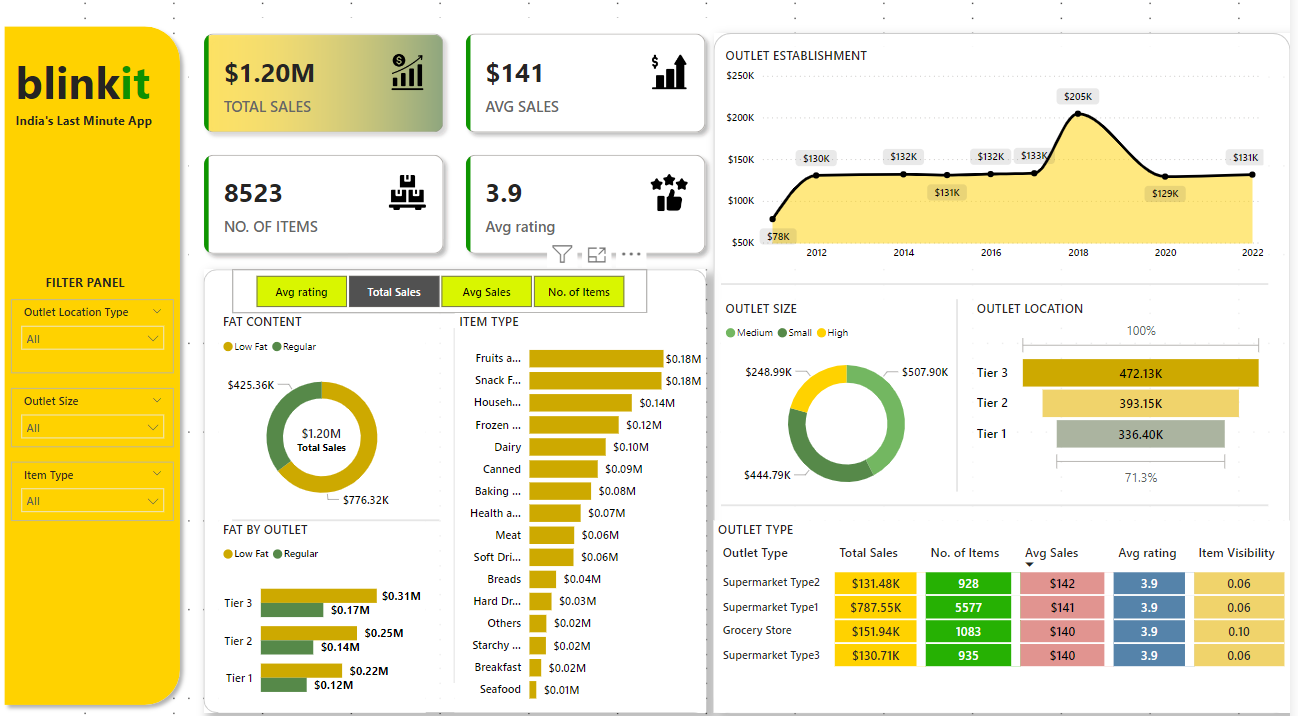

What the dashboard file says about the page in this screenshot:
{"tool":"powerbi","page":{"name":"Page 1","canvas":[1400,800],"ordinal":0},"visuals":[{"type":"shape","box":[0,32,208,752],"z":0},{"type":"textbox","box":[16,64,192,80],"z":1000},{"type":"textbox","box":[16,128,192,32],"z":2000},{"type":"cardVisual","fields":{"Data":["BlinkIT Grocery Data.Total Sales","BlinkIT Grocery Data.Avg Sales","BlinkIT Grocery Data.No. of rows","BlinkIT Grocery Data.Avg rating"]},"box":[208,32,576,272],"z":3000},{"type":"shape","box":[224,304,544,480],"z":4000},{"type":"donutChart","title":"FAT CONTENT","fields":{"Y":["BlinkIT Grocery Data.Total Sales"],"Category":["BlinkIT Grocery Data.Item Fat Content"]},"box":[240,351,224,224],"z":5000},{"type":"slicer","fields":{"Values":["Matrix.Matrix"]},"box":[256,304,448,48],"z":6000},{"type":"cardVisual","fields":{"Data":["BlinkIT Grocery Data.Total Sales"]},"box":[288,448,128,80],"z":7000},{"type":"clusteredBarChart","title":"FAT BY OUTLET","fields":{"Y":["BlinkIT Grocery Data.Total Sales"],"Category":["BlinkIT Grocery Data.Outlet Location Type"],"Series":["BlinkIT Grocery Data.Item Fat Content"]},"box":[240,576,224,208],"z":8000},{"type":"shape","box":[256,560,224,32],"z":9000},{"type":"shape","box":[480,368,32,384],"z":10000},{"type":"barChart","title":"ITEM TYPE","fields":{"Y":["BlinkIT Grocery Data.Total Sales"],"Category":["BlinkIT Grocery Data.Item Type"]},"box":[496,352,272,432],"z":11000},{"type":"shape","box":[776,48,624,736],"z":12000},{"type":"lineChart","title":"OUTLET ESTABLISHMENT","fields":{"Y":["BlinkIT Grocery Data.Total Sales"],"Category":["BlinkIT Grocery Data.Outlet Establishment Year"]},"box":[784,64,592,240],"z":13000},{"type":"shape","box":[784,304,592,32],"z":14000},{"type":"donutChart","title":"OUTLET SIZE","fields":{"Y":["BlinkIT Grocery Data.Total Sales"],"Category":["BlinkIT Grocery Data.Outlet Size"]},"box":[784,336,272,224],"z":15000},{"type":"shape","box":[1024,336,32,208],"z":16000},{"type":"funnel","title":"OUTLET LOCATION","fields":{"Y":["Sum(BlinkIT Grocery Data.Sales)"],"Category":["BlinkIT Grocery Data.Outlet Location Type"]},"box":[1056,336,320,208],"z":17000},{"type":"shape","box":[784,544,592,32],"z":18000},{"type":"pivotTable","title":"OUTLET TYPE","fields":{"Rows":["BlinkIT Grocery Data.Outlet Type"],"Values":["BlinkIT Grocery Data.Total Sales","BlinkIT Grocery Data.No. of Items","BlinkIT Grocery Data.Avg Sales","BlinkIT Grocery Data.Avg rating","Avg(BlinkIT Grocery Data.Item Visibility)"]},"box":[776,576,624,208],"z":19000},{"type":"slicer","fields":{"Values":["BlinkIT Grocery Data.Outlet Location Type"]},"box":[16,336,176,80],"z":19001},{"type":"slicer","fields":{"Values":["BlinkIT Grocery Data.Outlet Size"]},"box":[16,432,176,64],"z":19002},{"type":"slicer","fields":{"Values":["BlinkIT Grocery Data.Item Type"]},"box":[16,512,176,64],"z":19003},{"type":"textbox","box":[16,304,160,48],"z":19004}]}

Visuals, with their boxes on the page's 1400x800 design canvas (x1, y1, x2, y2). These are canvas units, not pixel positions in the 1298x716 screenshot, which may show the page scaled, cropped or inside an application window:
shape: 0:32:208:784
textbox: 16:64:208:144
textbox: 16:128:208:160
cardVisual - BlinkIT Grocery Data.Total Sales x BlinkIT Grocery Data.Avg Sales: 208:32:784:304
shape: 224:304:768:784
"FAT CONTENT" donutChart: 240:351:464:575
slicer - Matrix.Matrix: 256:304:704:352
cardVisual - BlinkIT Grocery Data.Total Sales: 288:448:416:528
"FAT BY OUTLET" clusteredBarChart: 240:576:464:784
shape: 256:560:480:592
shape: 480:368:512:752
"ITEM TYPE" barChart: 496:352:768:784
shape: 776:48:1400:784
"OUTLET ESTABLISHMENT" lineChart: 784:64:1376:304
shape: 784:304:1376:336
"OUTLET SIZE" donutChart: 784:336:1056:560
shape: 1024:336:1056:544
"OUTLET LOCATION" funnel: 1056:336:1376:544
shape: 784:544:1376:576
"OUTLET TYPE" pivotTable: 776:576:1400:784
slicer - BlinkIT Grocery Data.Outlet Location Type: 16:336:192:416
slicer - BlinkIT Grocery Data.Outlet Size: 16:432:192:496
slicer - BlinkIT Grocery Data.Item Type: 16:512:192:576
textbox: 16:304:176:352
